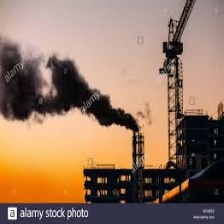smoke: (1, 45, 136, 130)
